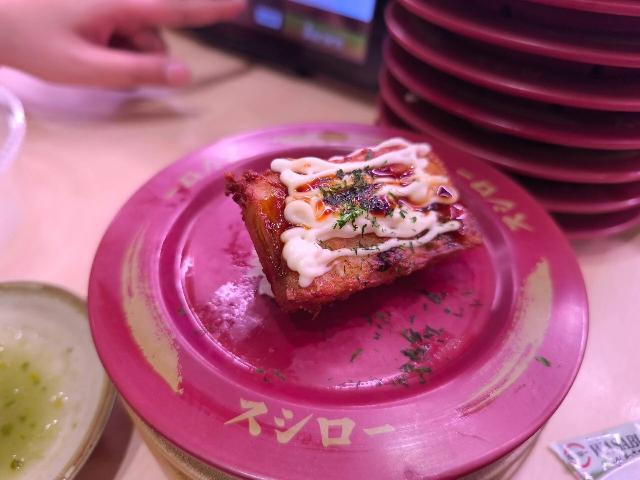jangold: (127, 413, 223, 480)
janred: (111, 155, 595, 462), (426, 61, 640, 117), (433, 19, 640, 66), (471, 147, 640, 180), (463, 117, 640, 146), (504, 0, 640, 21), (561, 217, 640, 240), (507, 200, 640, 208)
